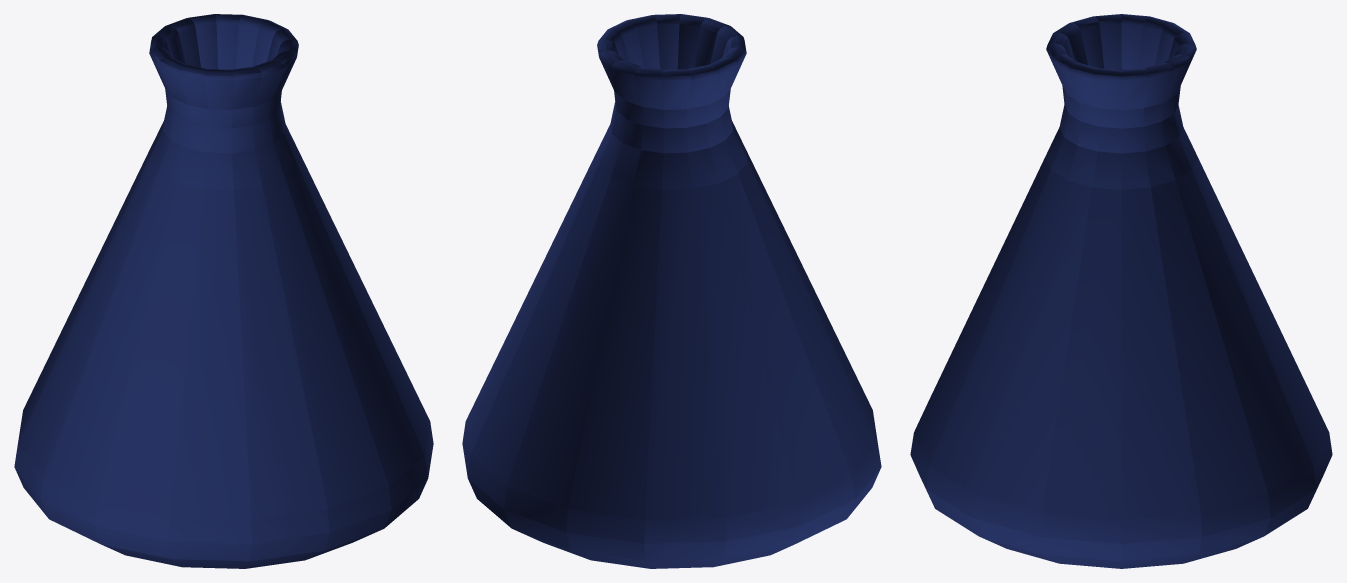
Rendered from Vase 12.fbx.
3 renders of one model, left to right at view 1: azimuth 30°, elevation 25°; view 2: azimuth 150°, elevation 25°; view 3: azimuth 270°, elevation 25°, orthographic.
Visible parts, largest first — view 1: Node 0; view 2: Node 0; view 3: Node 0.
Part boxes in pixels (box(x1,y1,x2,y2)): Node 0: box(14, 14, 433, 568); Node 0: box(462, 14, 881, 568); Node 0: box(910, 14, 1332, 568).
Bounding box in the file's own units: 0.1215 × 0.148 × 0.1215.
